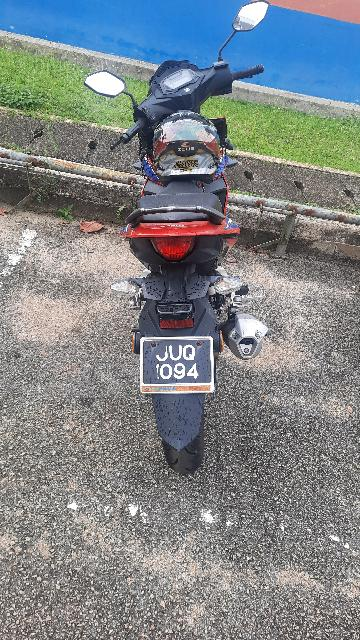License_Plate: (121, 326, 245, 422)
motorcycle: (81, 14, 277, 482)
